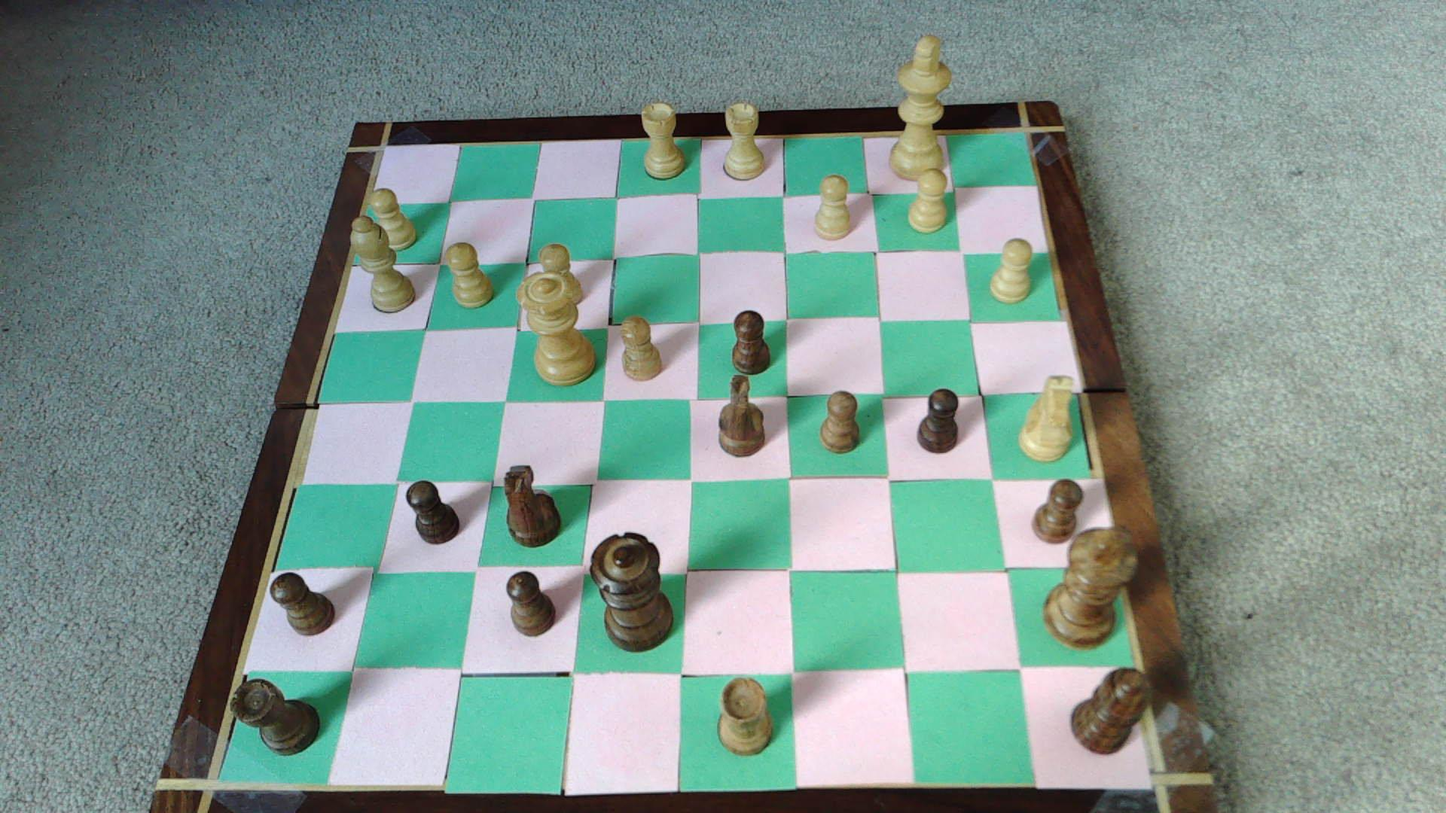dark_piece: (1044, 530, 1138, 647), (590, 533, 672, 650), (1071, 668, 1148, 752), (233, 679, 319, 754), (504, 464, 560, 547), (718, 676, 773, 755), (270, 572, 334, 634), (719, 377, 765, 457), (406, 481, 460, 544), (1031, 480, 1083, 543), (506, 571, 554, 636), (917, 389, 959, 452), (819, 391, 859, 452), (732, 310, 770, 374)
white_piece: (889, 33, 953, 180), (518, 273, 595, 385), (350, 215, 416, 312), (1019, 376, 1074, 461), (641, 101, 686, 179), (723, 101, 766, 180), (445, 242, 494, 307), (368, 189, 418, 251), (989, 238, 1033, 303), (540, 243, 585, 306), (621, 316, 662, 380), (908, 169, 948, 233), (814, 175, 851, 241)
